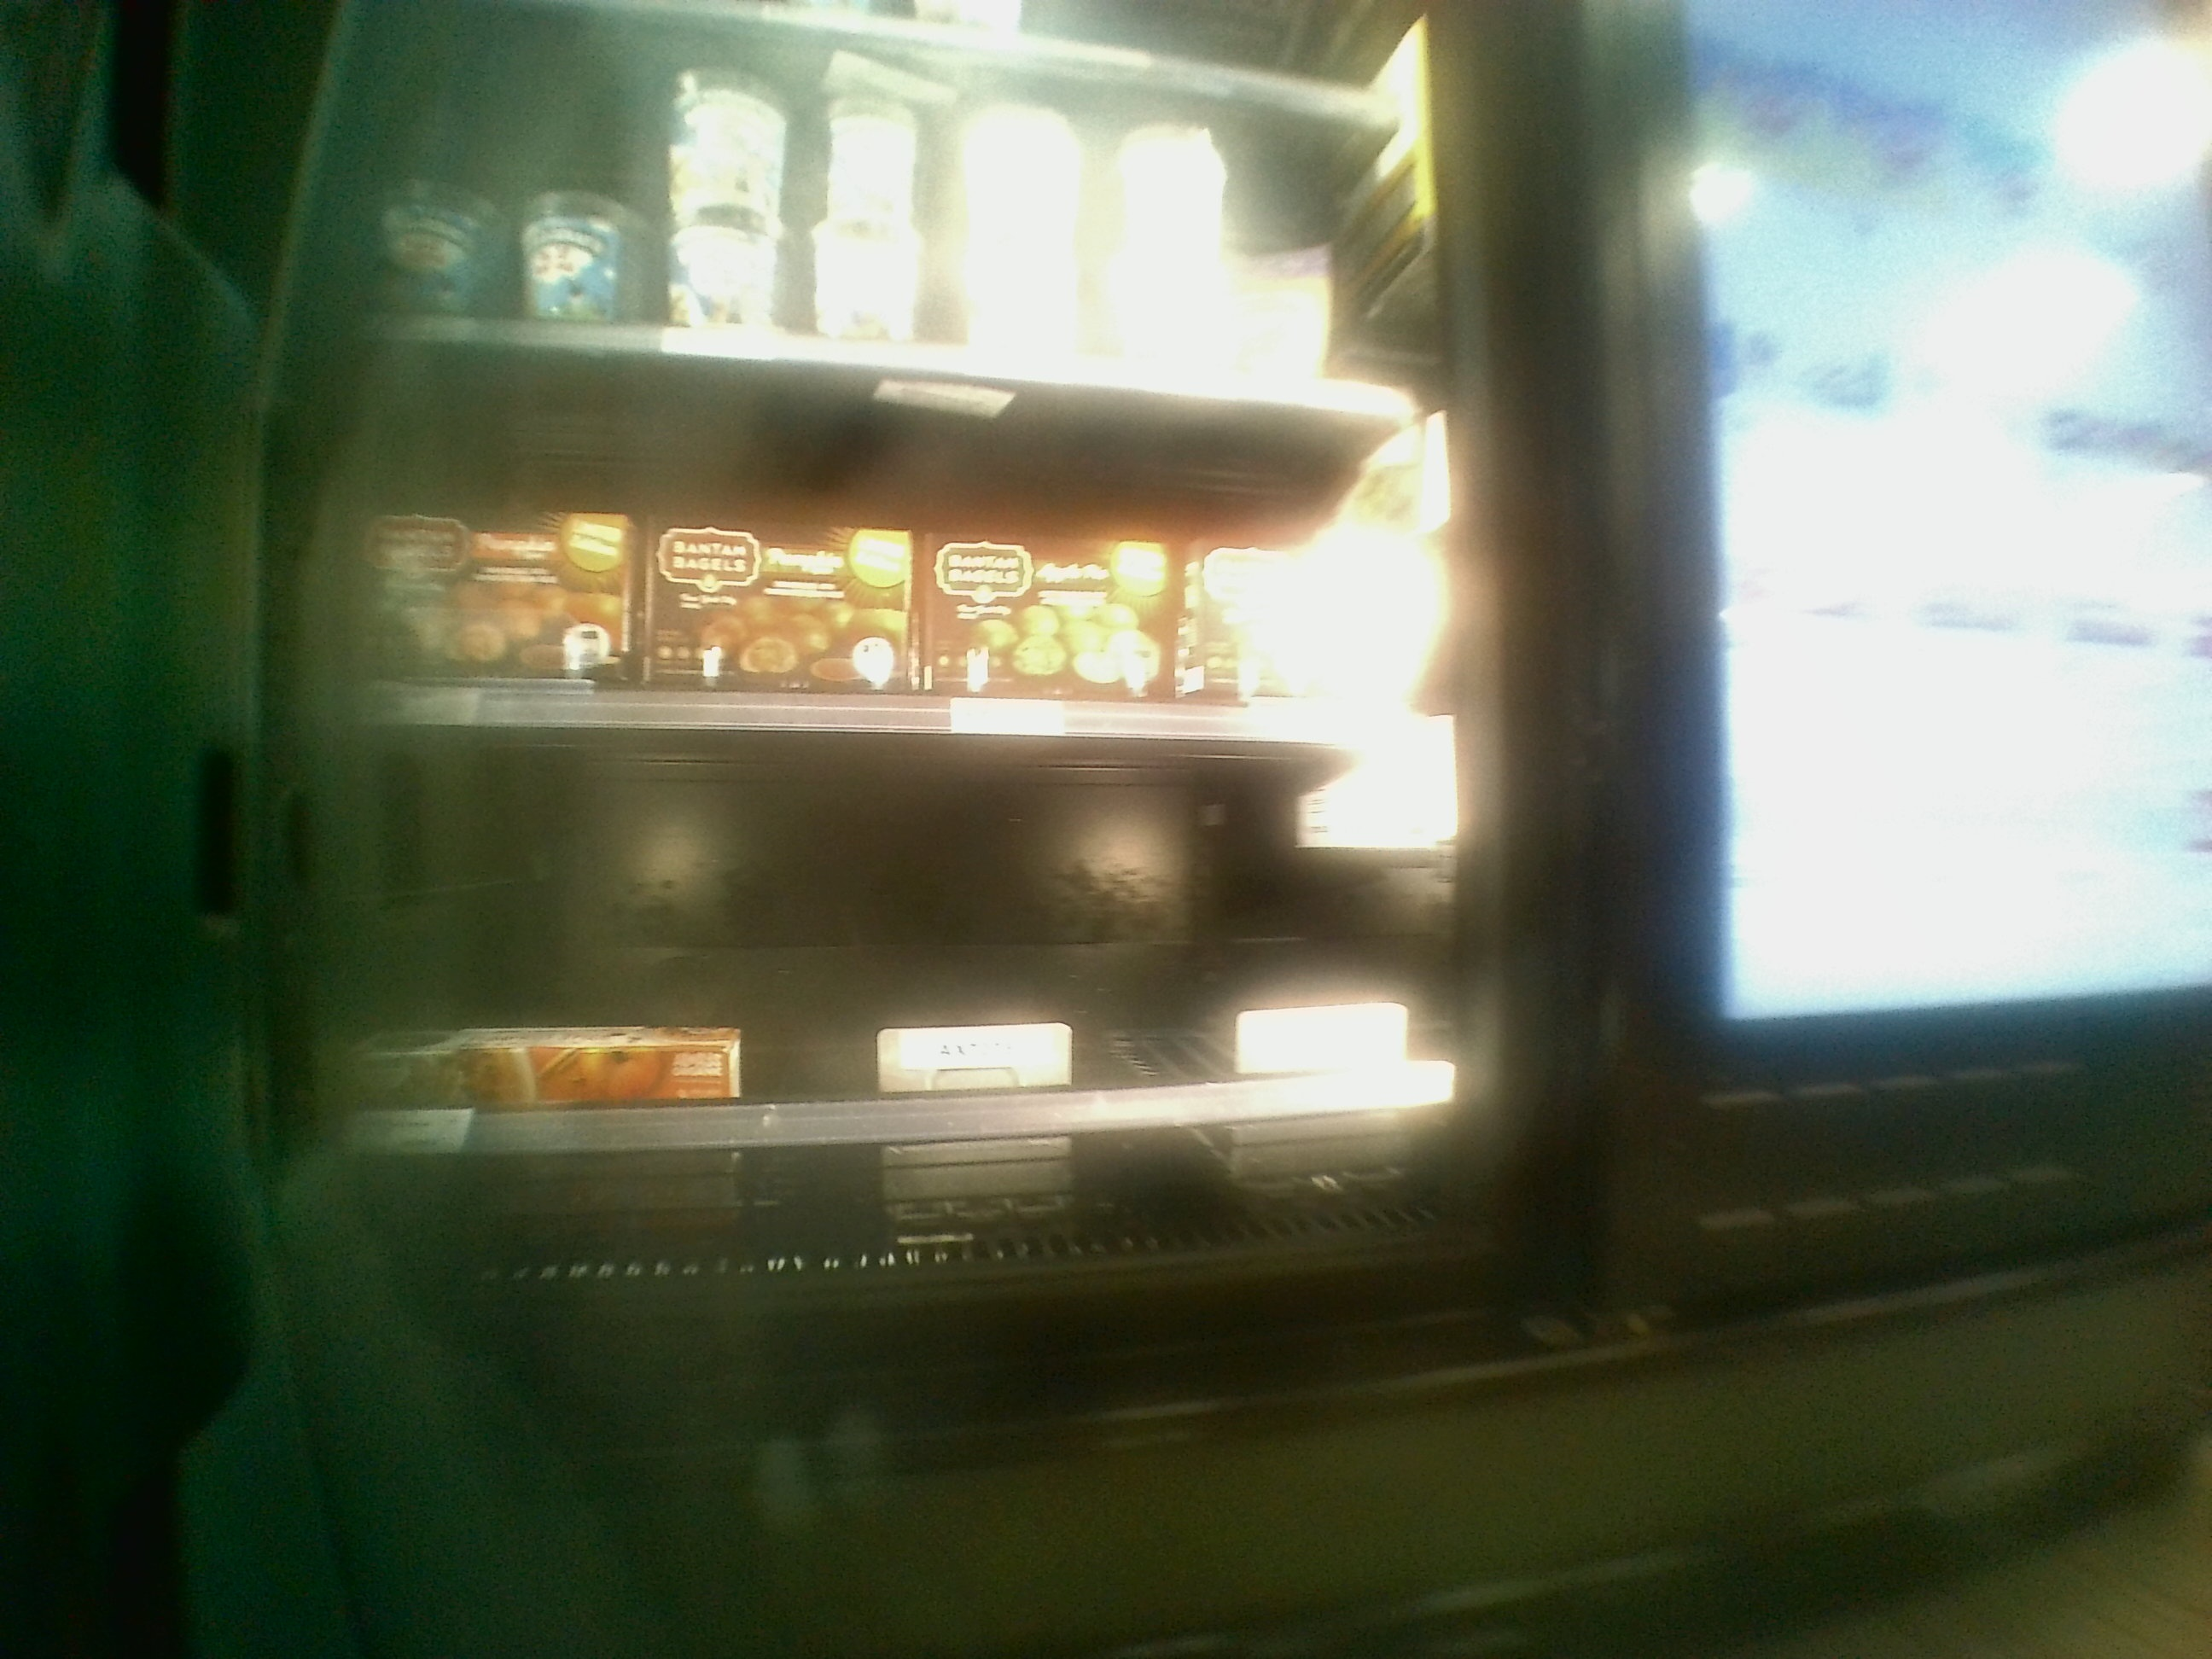shelf: (327, 694, 1439, 1112), (322, 333, 1437, 711)
